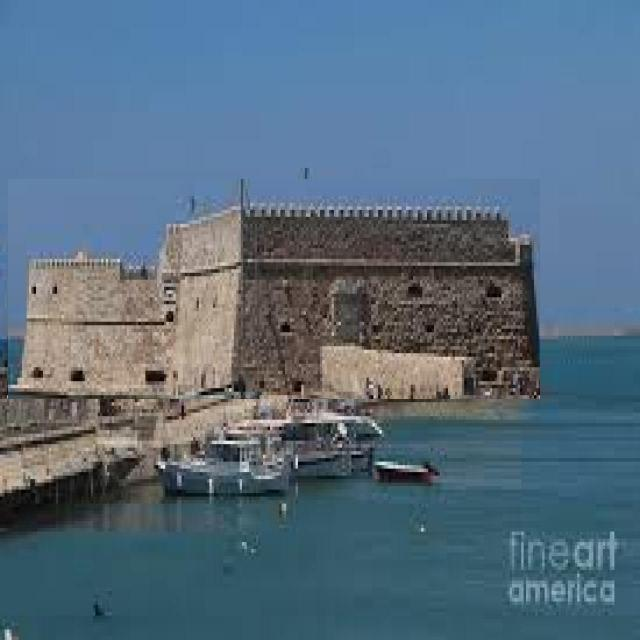Kules: (9, 180, 541, 400)
